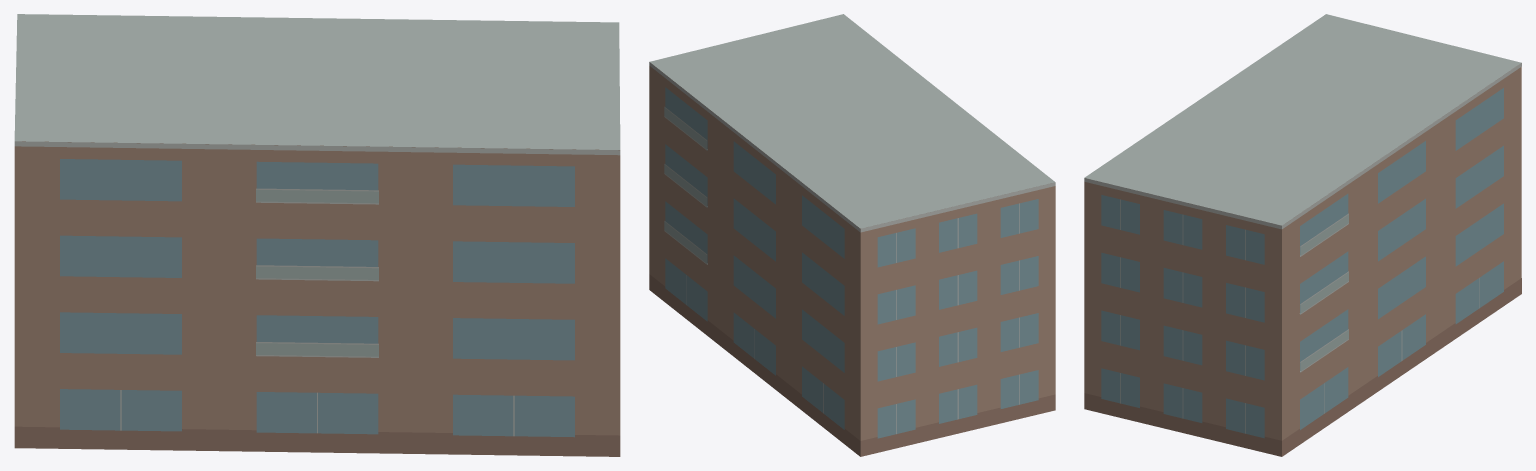
File: survey-upis-32624787.glb
3 views of the same model, side by side, from view 1: azimuth 30°, elevation 25°; view 2: azimuth 150°, elevation 25°; view 3: azimuth 270°, elevation 25° (orthographic). The views are drawn at different scales.
Visible parts, largest first — view 1: survey-upis-32624787.tmp; view 2: survey-upis-32624787.tmp; view 3: survey-upis-32624787.tmp.
Part boxes in pixels (bbox=[...]): survey-upis-32624787.tmp: bbox=[14, 14, 620, 456]; survey-upis-32624787.tmp: bbox=[649, 14, 1055, 456]; survey-upis-32624787.tmp: bbox=[1084, 14, 1521, 456].
Bounding box in the file's own units: 28.86 × 14.7 × 25.21.
